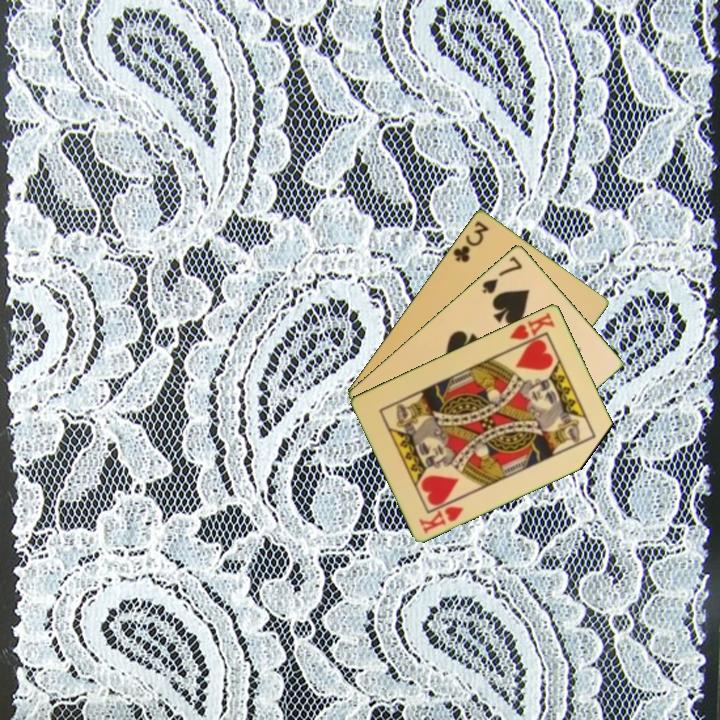3c: (450, 217, 492, 265)
7s: (479, 252, 525, 296)
Kh: (506, 308, 558, 351), (415, 502, 467, 536)
